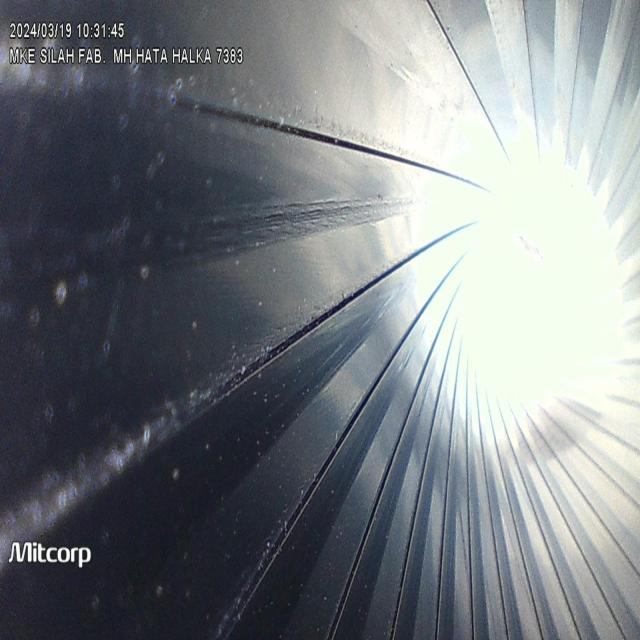hata_8.1: (286, 142, 426, 270)
